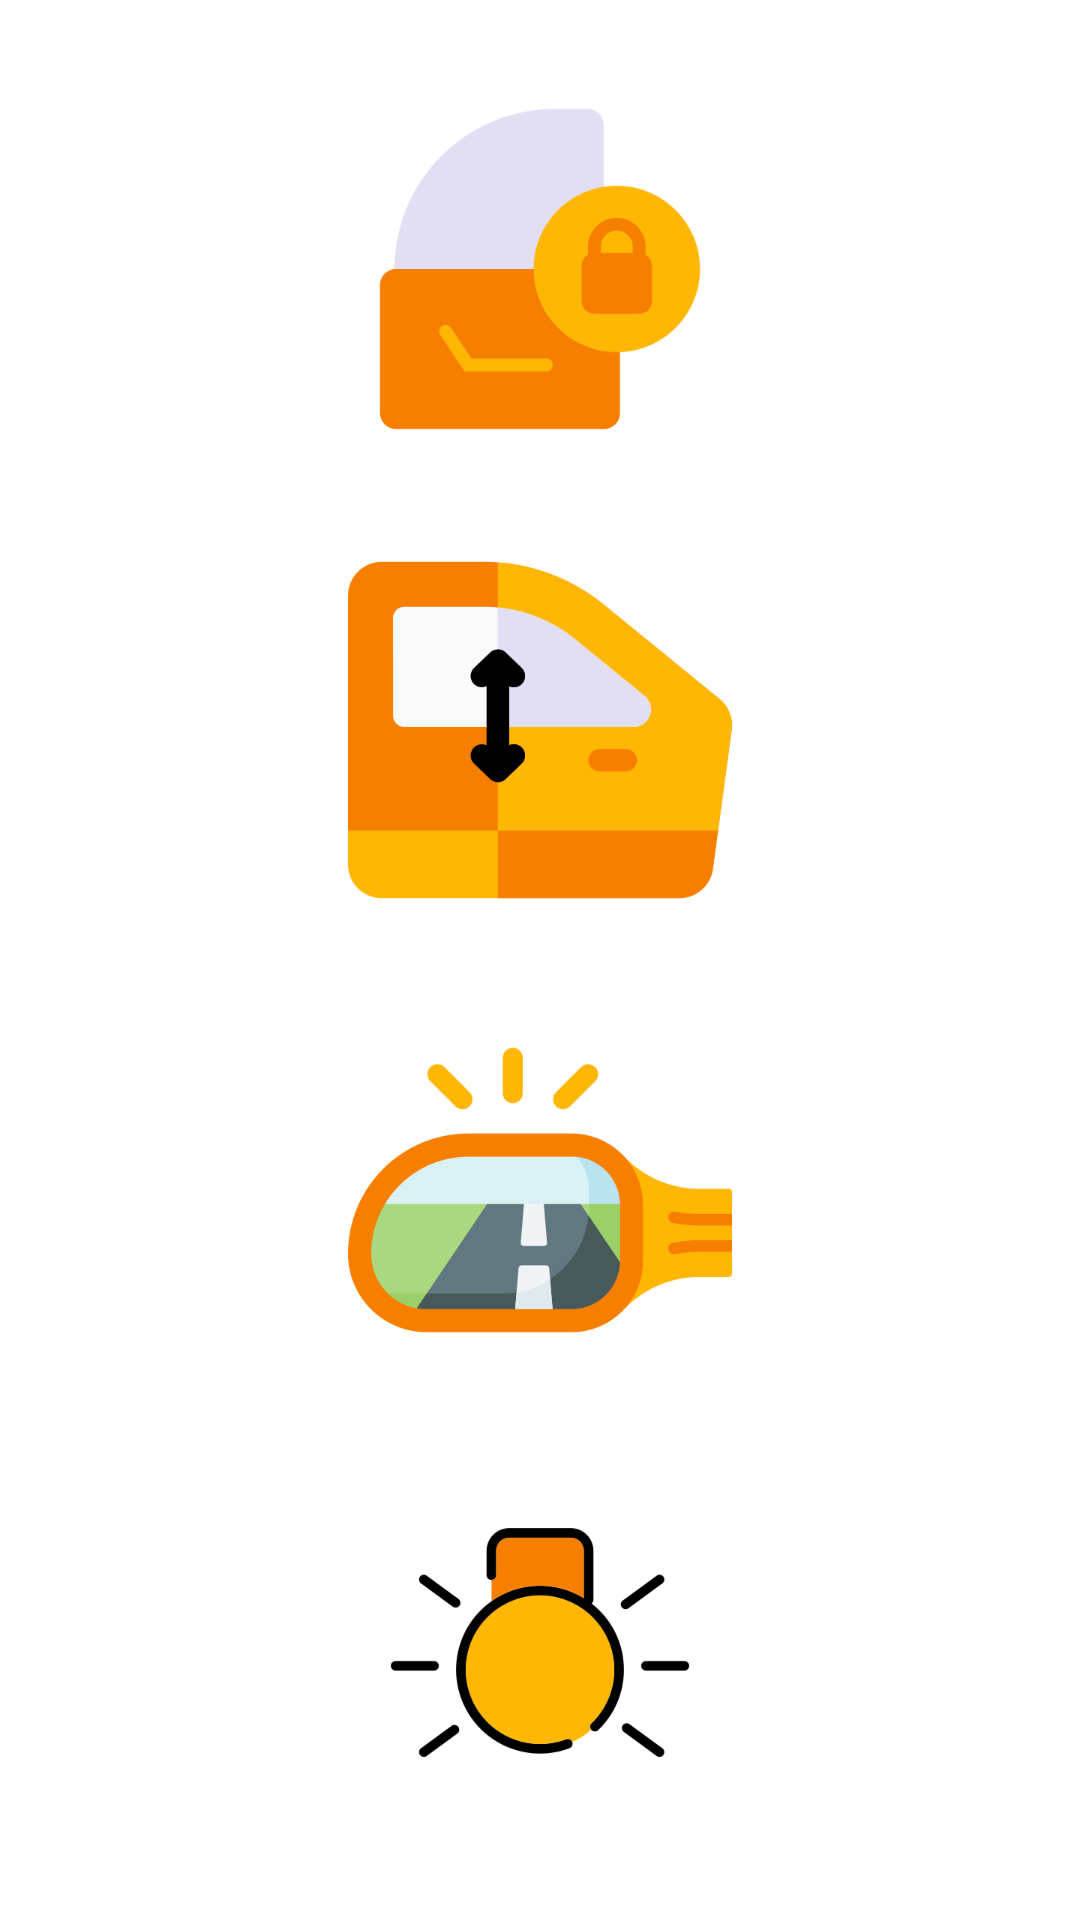

Named icons in this screenshot (1080 x 1920) and their centers, (x,y):
lights: (540,1642)
lock: (540,269)
